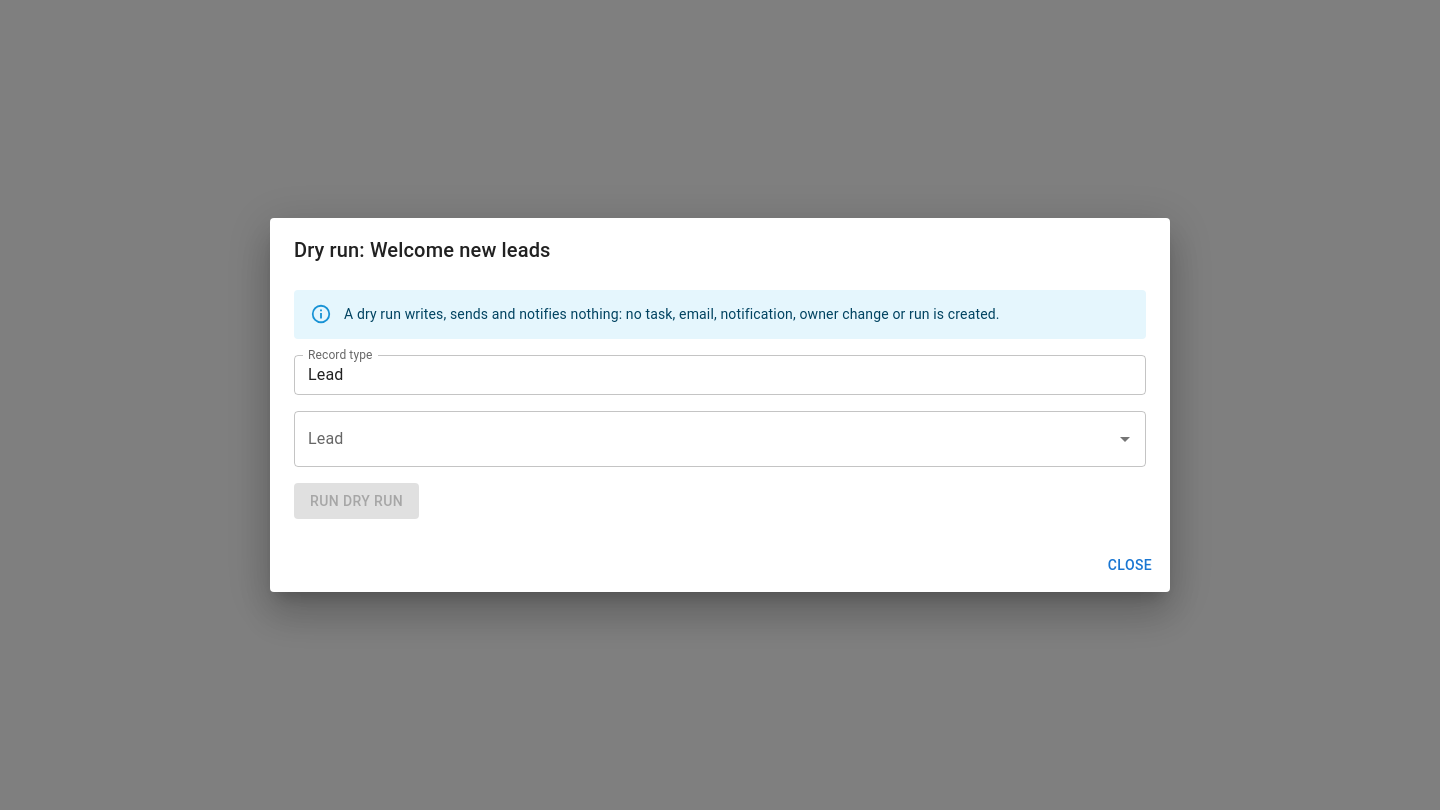
DryRunDialog › a late failure of an older record search does not flag the newer successful one
Press the mouse on the dropdown labelled "Lead": [705, 438] box 303,420 -> 1107,458
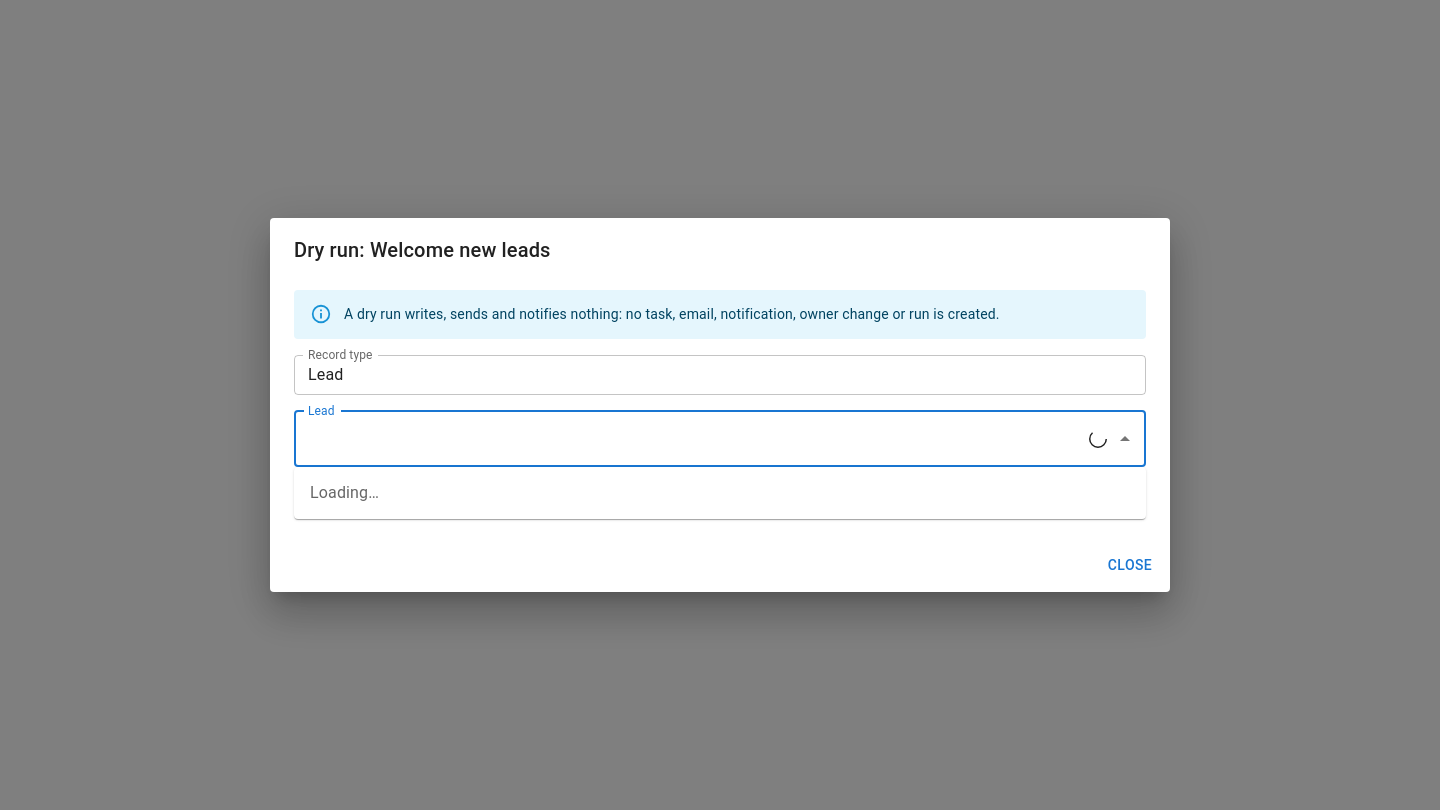
In the dropdown labelled "Lead": [696, 438] box 303,420 -> 1089,458, type "ion"
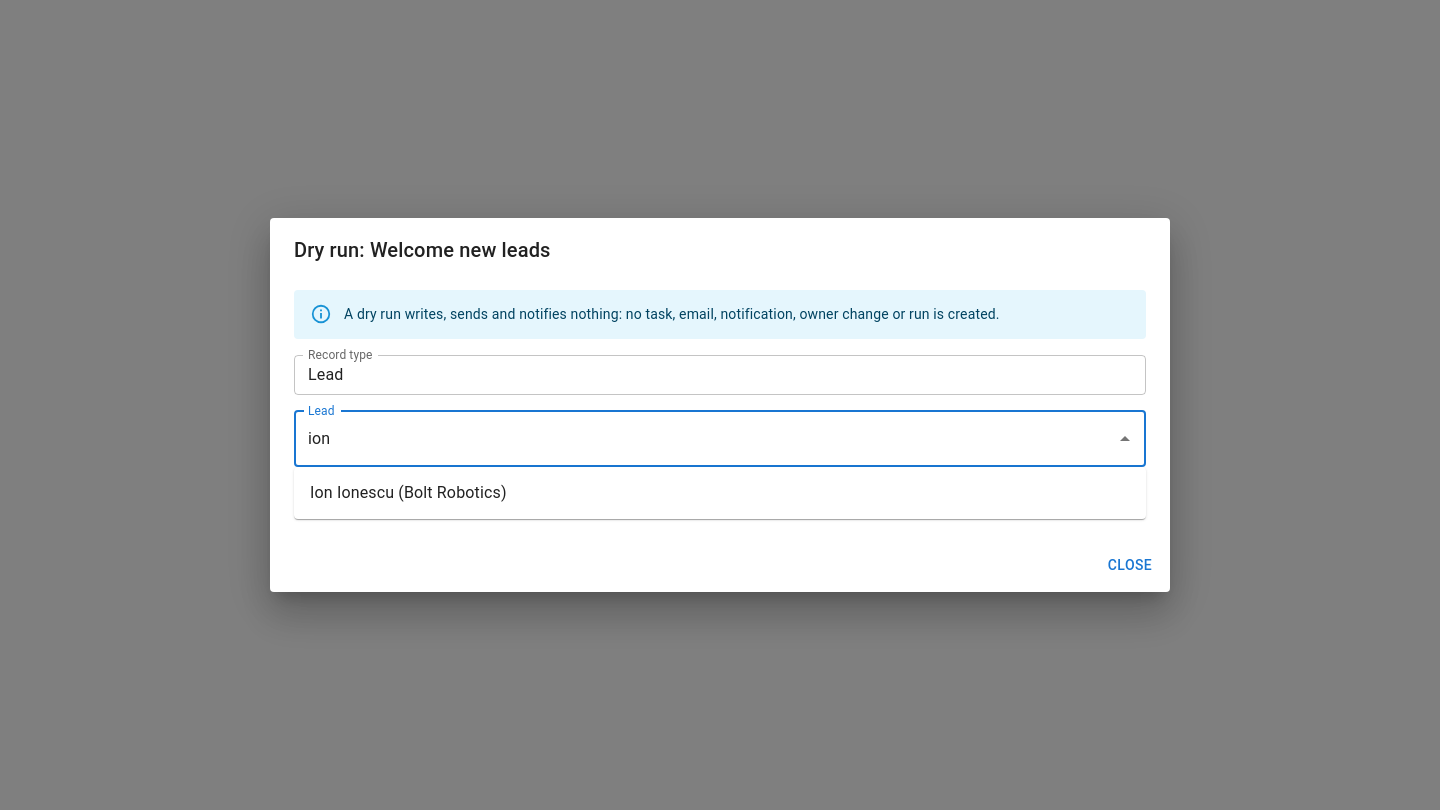
Expected: the option "Ion Ionescu (Bolt Robotics)" is shown, 310,483 -> 507,502
